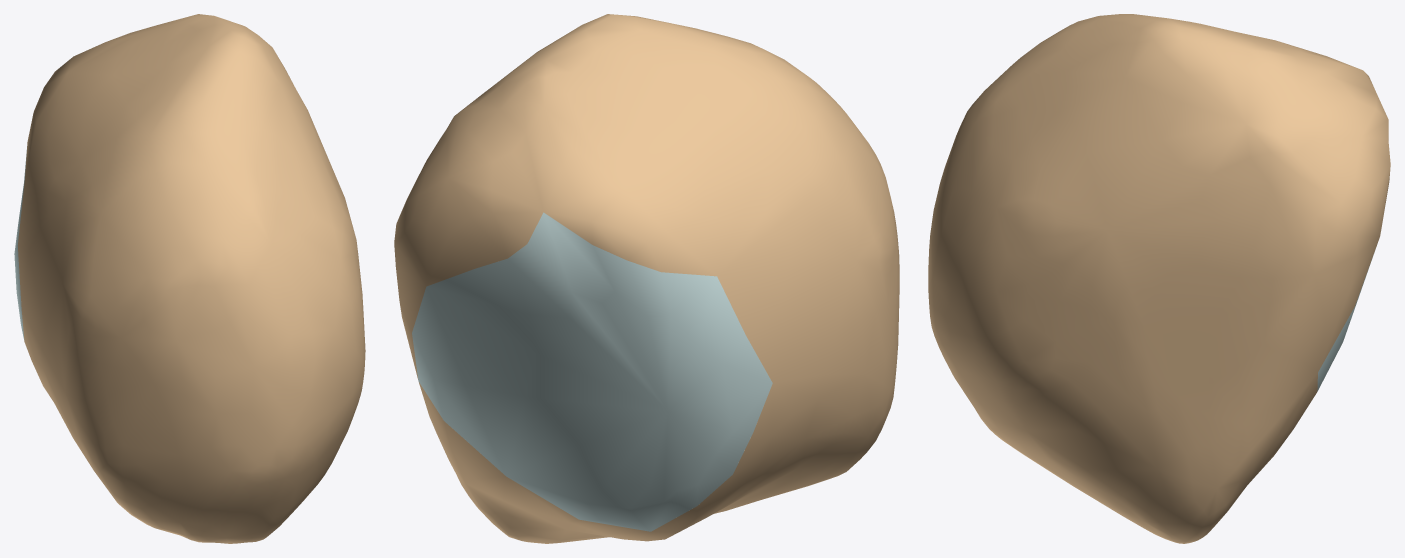
Rendered from Pisiform_bone.r_Generated_Mesh_From_X3D.713.glb.
3 views of the same model, side by side, from view 1: azimuth 30°, elevation 25°; view 2: azimuth 150°, elevation 25°; view 3: azimuth 270°, elevation 25° (orthographic). The views are drawn at different scales.
Parts seen in each view (by area): view 1: Pisiform_bone.r_Generated_Mesh_From_X3D.713; view 2: Pisiform_bone.r_Generated_Mesh_From_X3D.713; view 3: Pisiform_bone.r_Generated_Mesh_From_X3D.713.
Boxes of the visible parts, box(x1,y1,x2,y2) form: Pisiform_bone.r_Generated_Mesh_From_X3D.713: box(14, 14, 365, 543); Pisiform_bone.r_Generated_Mesh_From_X3D.713: box(394, 14, 899, 543); Pisiform_bone.r_Generated_Mesh_From_X3D.713: box(928, 14, 1390, 543).
Size of the model in its own units: 0.00846 by 0.0121 by 0.0104.
